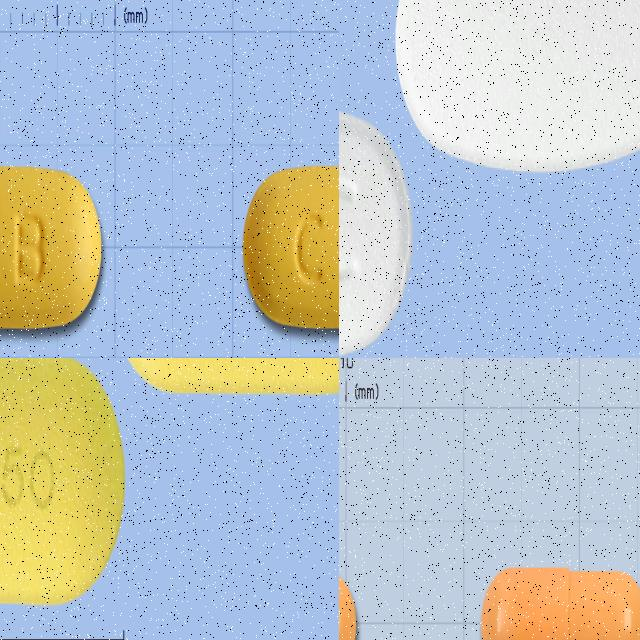Cefixime Cap- Withus: (479, 562, 640, 640)
Clacin -500mg: (0, 161, 107, 334), (240, 162, 339, 335)
Craycin - 500mg: (0, 358, 125, 605)
Cycin: (393, 0, 640, 175), (339, 95, 414, 358)
